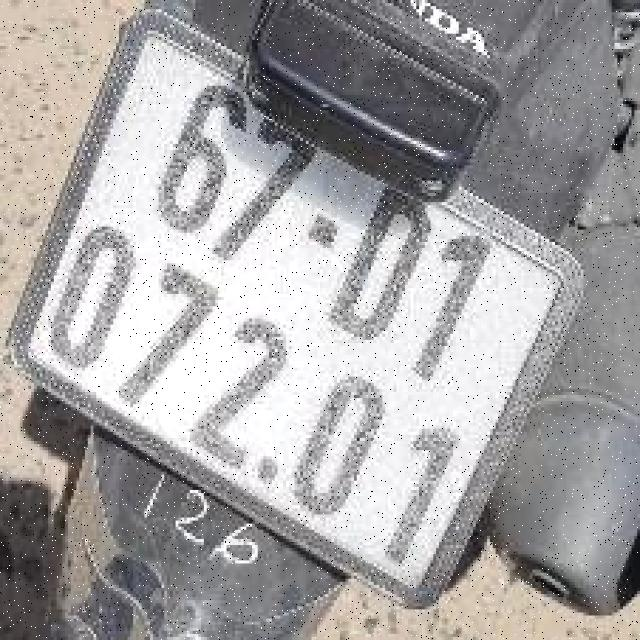0: (274, 351, 405, 531), (32, 211, 150, 385)
1: (395, 220, 513, 407), (365, 405, 482, 582)
2: (177, 299, 315, 483)
6: (142, 65, 262, 250)
7: (94, 250, 239, 420), (195, 104, 332, 277)
D: (320, 169, 452, 357)
